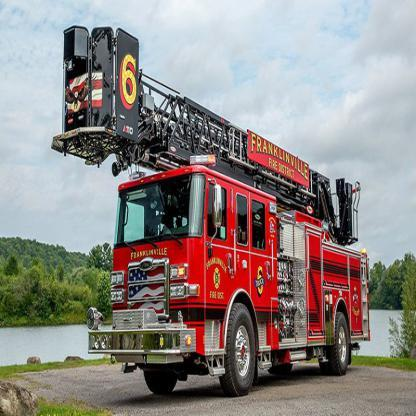fire-truck: (31, 11, 416, 414)
